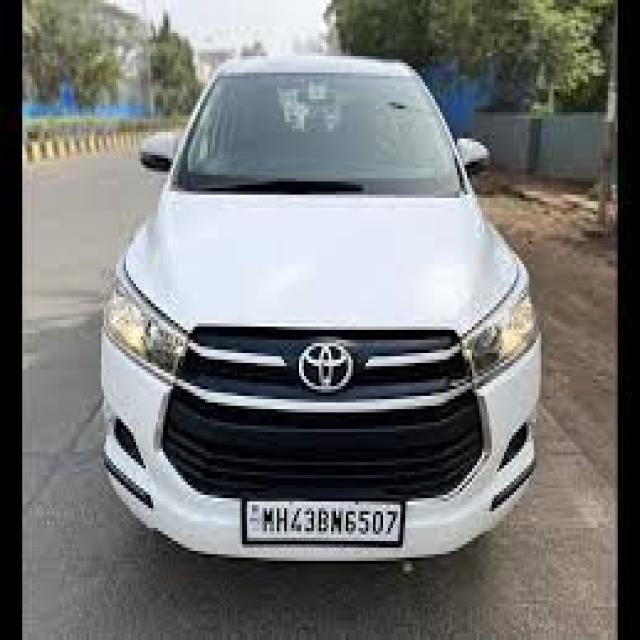light_vehicle: (101, 54, 541, 562)
